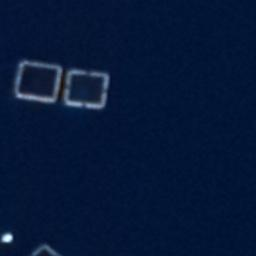square_solid: (57, 64, 115, 118), (9, 55, 70, 106)
